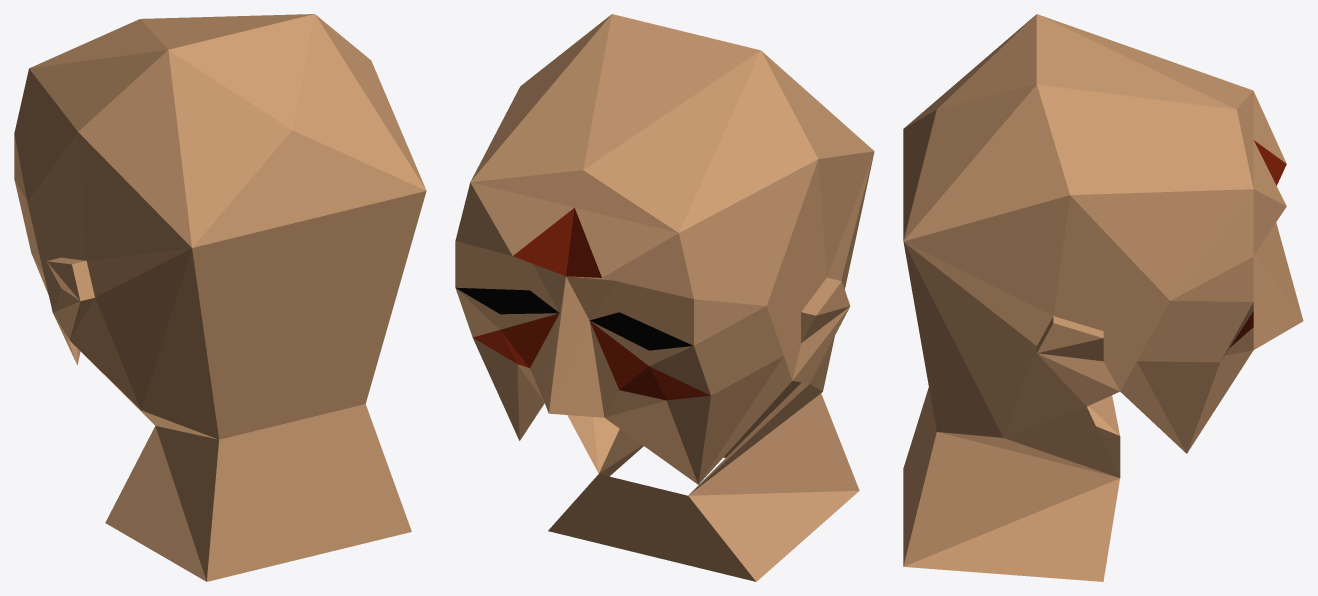
The model's file is npc_world_tribesman_0.obj.
3 views of the same model, side by side, from view 1: azimuth 30°, elevation 25°; view 2: azimuth 150°, elevation 25°; view 3: azimuth 270°, elevation 25° (orthographic). The views are drawn at different scales.
Bounding box in the file's own units: 0.1719 × 0.25 × 0.1875.
